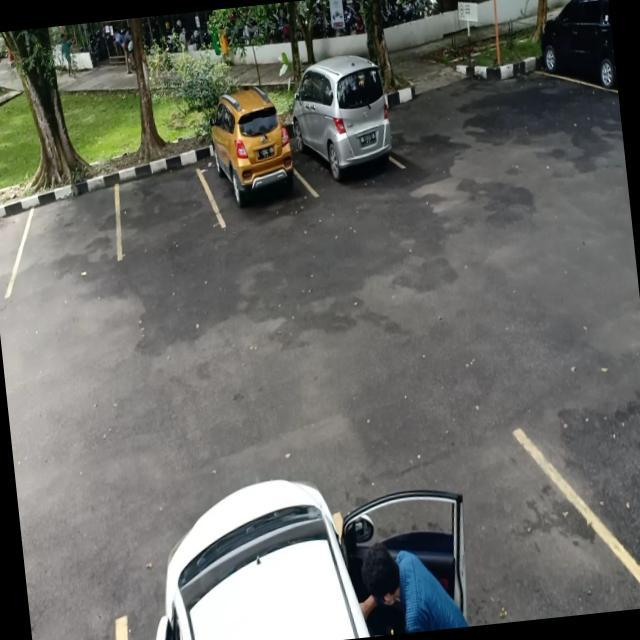empty: (333, 475, 628, 626), (6, 172, 126, 284), (107, 155, 219, 256)
occupied: (288, 87, 406, 200), (201, 117, 299, 228)
